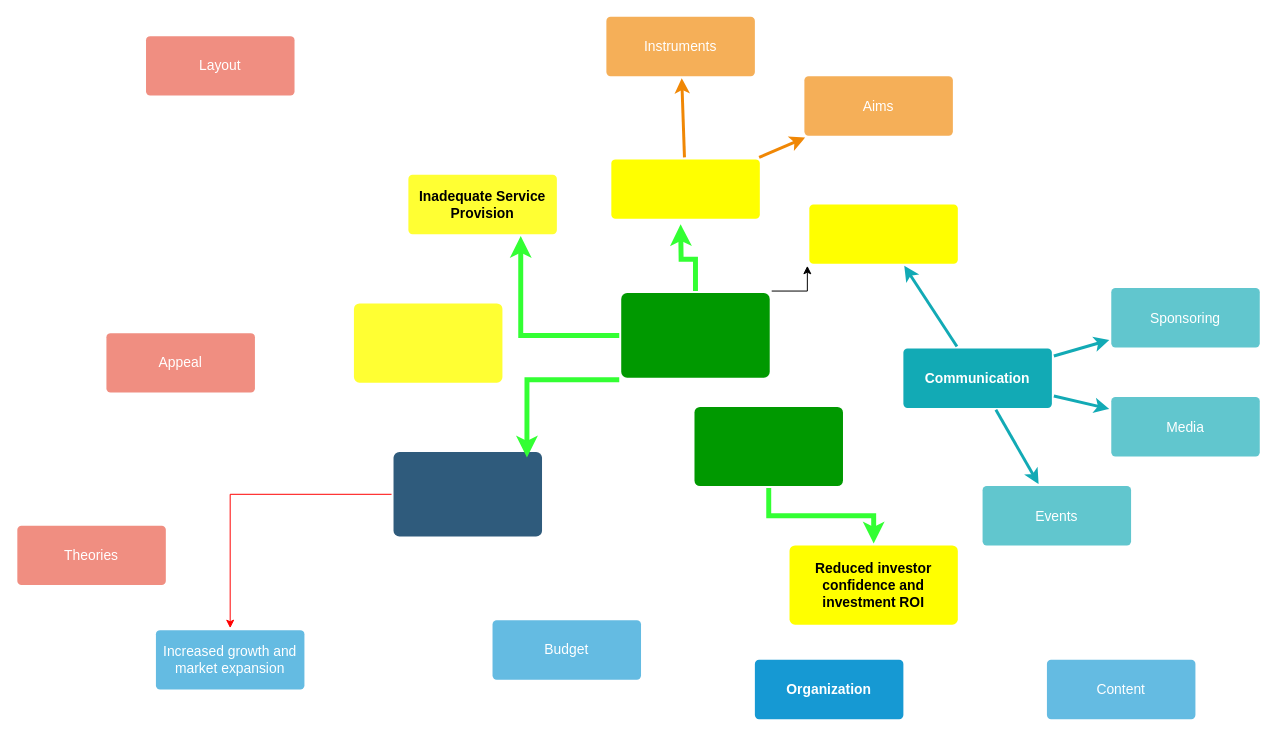
The diagram is 1276 pixels wide and 737 high, and some of its shapes have lost their labels. Here are the shapes that lost their labels. From the top down, the box of each, then its label:
(611, 159, 759, 218): Reduced Market Share
(809, 204, 957, 263): Customer dissatisfaction with service
(353, 303, 502, 382): Insufficient employee engagement and awareness
(621, 293, 769, 377): Inefficient Network Capability
(694, 406, 842, 486): Stalled Revenue growth
(393, 451, 542, 536): Inability to compete in the market- reduced market share
